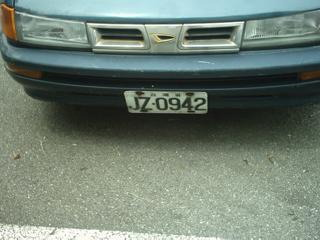plate: (120, 86, 211, 117)
